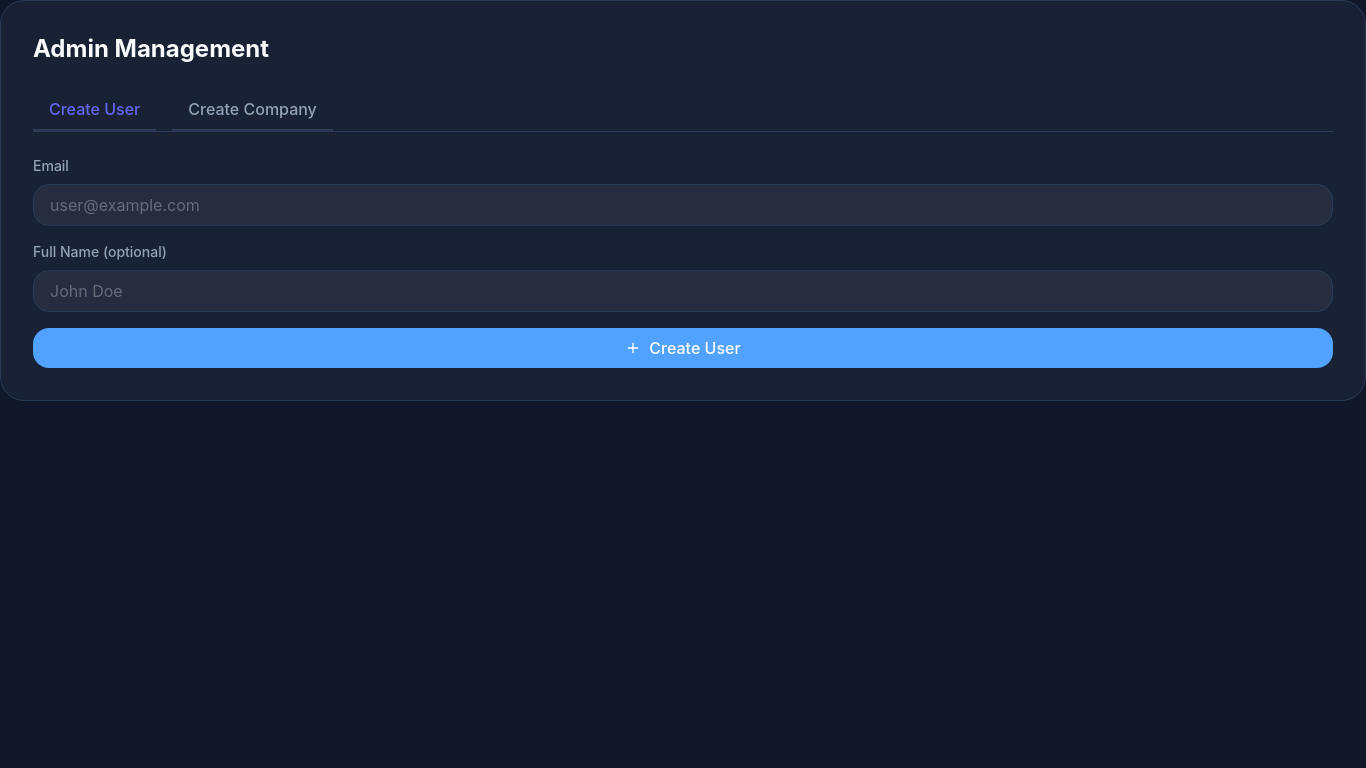
Test: Admin Management Panel › Create Company Tab › creates company successfully
The width and height of the screenshot is (1366, 768).
Click the button "Create Company" at (253, 110), box [172, 89, 333, 131]
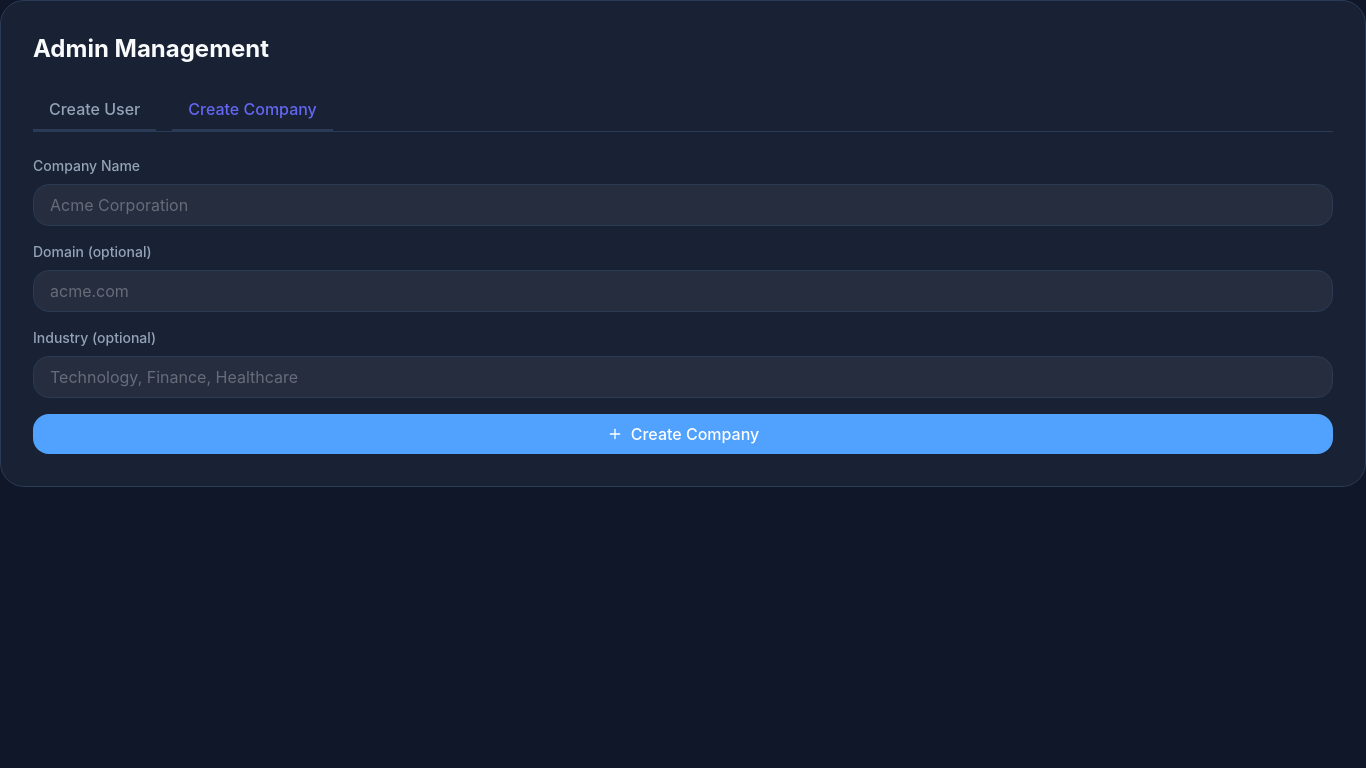
Type "Acme Corp" into the field with placeholder "Acme Corporation" at (683, 205), box [33, 184, 1333, 226]
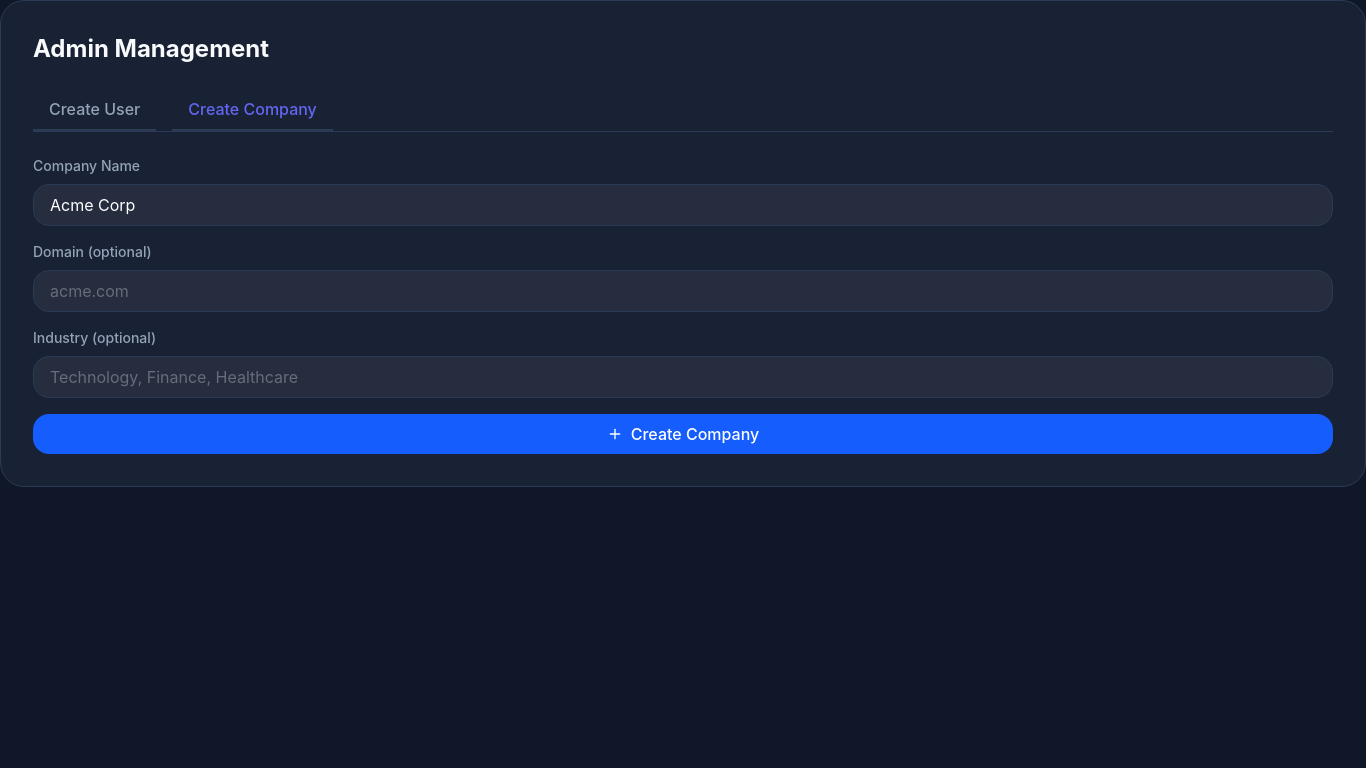
Click the button "Create Company" below "Industry (optional)" at (683, 434), box [33, 414, 1333, 454]
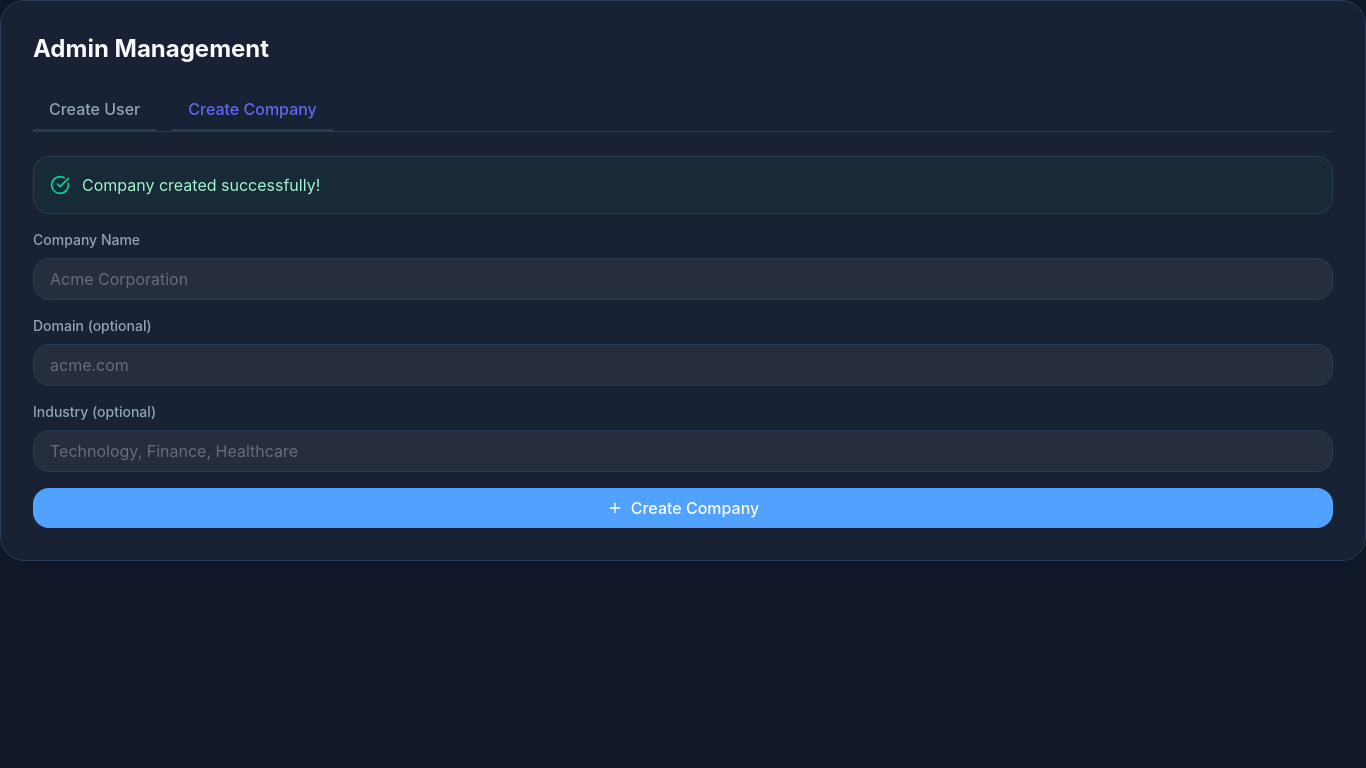
Now the text "Company created successfully!" is shown, box [82, 173, 320, 197]
